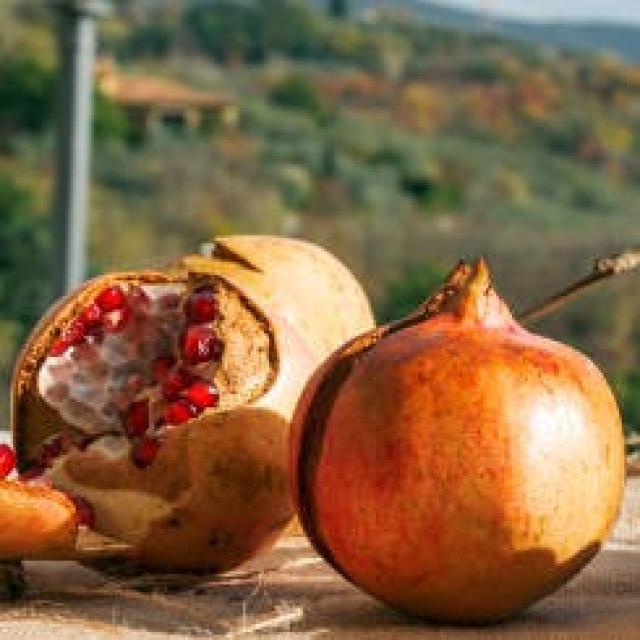overripe: (280, 257, 631, 629), (9, 259, 295, 574)
